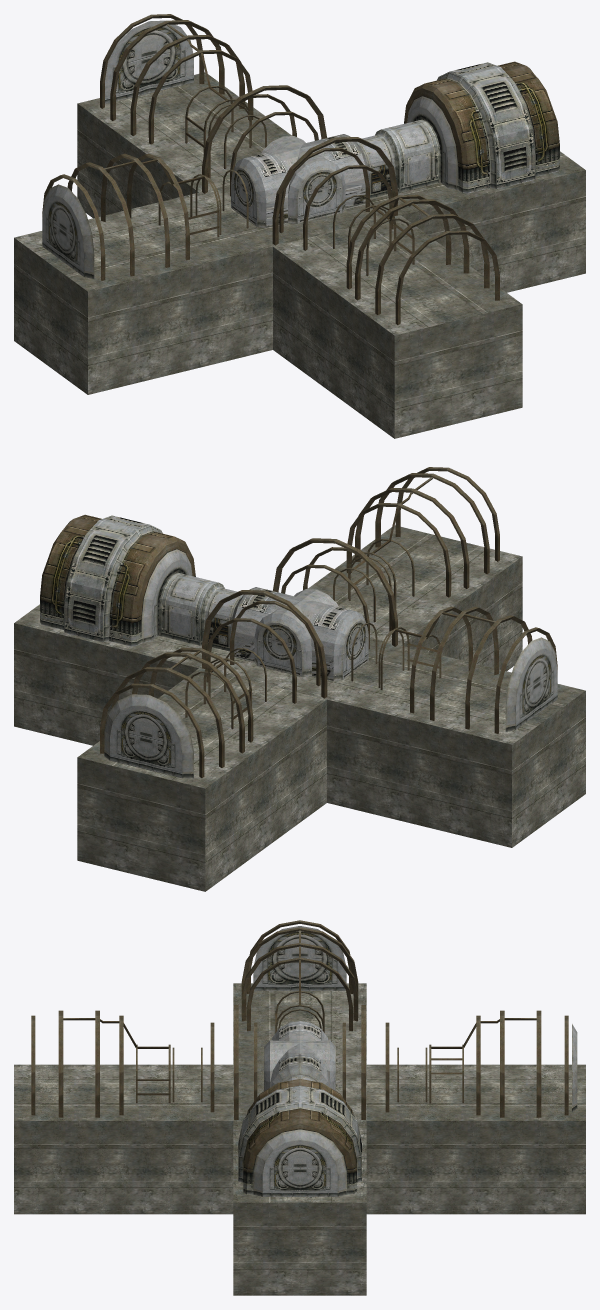
The model's file is ins_shield_generator_const_1_l0.fbx.
The picture shows the model from 3 angles, top to bottom: view 1: azimuth 30°, elevation 25°; view 2: azimuth 150°, elevation 25°; view 3: azimuth 270°, elevation 25°; orthographic projection. The views are drawn at different scales.
Parts seen in each view (by area): view 1: mesh_node; view 2: mesh_node; view 3: mesh_node.
Boxes of the visible parts, x1,y1,x2,y2 form: mesh_node: (14,14,585,438); mesh_node: (14,467,585,891); mesh_node: (14,920,585,1295).
Size of the model in its own units: 15.76 by 5.88 by 17.39.
